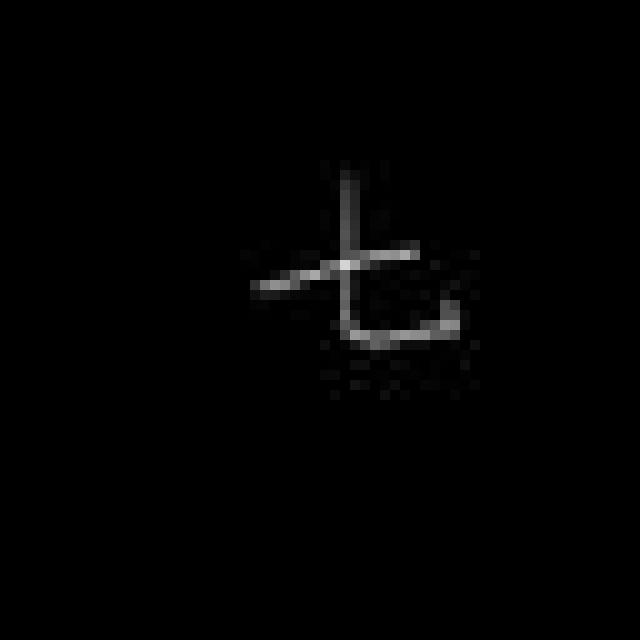7 -seven-: (247, 161, 469, 361)
